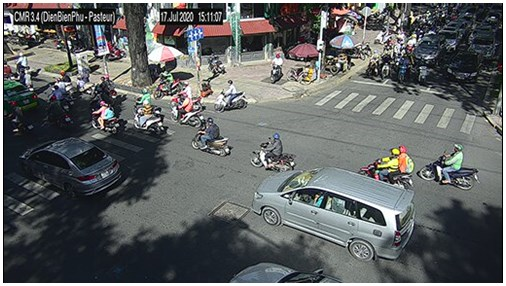xe_hoi: (251, 166, 415, 263), (20, 137, 121, 196), (228, 262, 343, 282), (446, 52, 481, 82), (414, 36, 444, 67), (468, 31, 495, 57), (441, 25, 459, 51)
xe_may: (419, 143, 480, 192), (358, 145, 415, 191), (249, 133, 296, 172), (191, 117, 230, 157), (170, 93, 203, 127), (214, 80, 248, 112), (133, 101, 164, 136), (91, 100, 120, 134), (43, 97, 72, 129), (7, 101, 26, 137), (154, 71, 179, 98), (174, 81, 198, 106), (54, 70, 74, 98), (49, 85, 69, 113), (98, 75, 117, 104), (135, 89, 158, 112), (76, 68, 95, 94), (270, 51, 283, 85), (16, 69, 34, 92), (366, 47, 379, 78), (416, 58, 429, 86), (380, 51, 392, 80), (397, 55, 408, 83), (14, 53, 28, 74), (76, 55, 77, 57)
